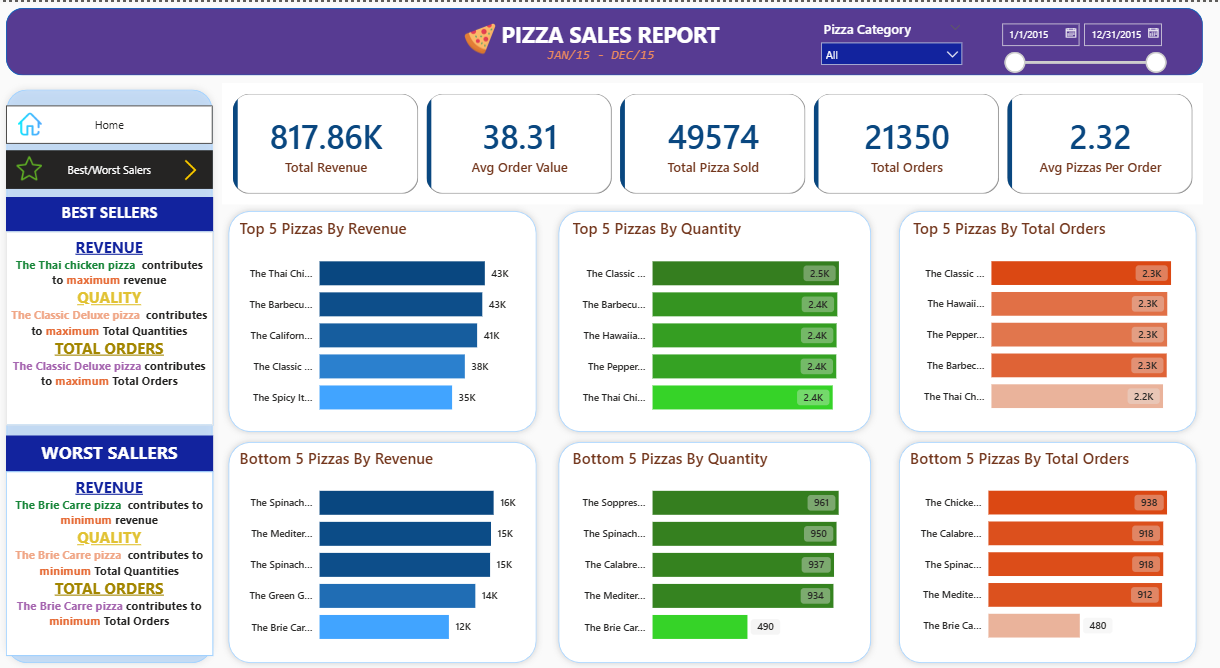

Layout of this report page (visuals, bound fields, positions):
{"tool":"powerbi","page":{"name":"Best/Worst Salers","canvas":[1500,820],"ordinal":1},"visuals":[{"type":"cardVisual","fields":{"Data":["pizza_sales.Total Revenue","pizza_sales.Avg Order Value","pizza_sales.Total Pizza Sold","pizza_sales.Total Orders","pizza_sales.Avg Pizzas Per Order"]},"box":[272.9,99.6,1206.1,149.4],"z":0},{"type":"shape","box":[7.4,7.4,1471.6,83],"z":1000},{"type":"textbox","box":[604.9,16.6,291.4,55.3],"z":2000},{"type":"textbox","box":[667.6,49.8,156.8,33.2],"z":3000},{"type":"image","box":[562.5,25.8,55.3,38.7],"z":4000},{"type":"shape","box":[272.9,249,394.6,287.7],"z":5000},{"type":"shape","box":[0,99.6,269.2,721.1],"z":6000},{"type":"textbox","box":[7.4,239.7,254.5,42.4],"z":7000},{"type":"textbox","box":[7.4,282.2,254.5,237.9],"z":8000},{"type":"textbox","box":[7.4,533,254.5,44.3],"z":9000},{"type":"textbox","box":[7.4,577.2,254.5,226.8],"z":10000},{"type":"slicer","fields":{"Values":["pizza_sales.pizza_category"]},"box":[999.5,16.6,193.6,64.5],"z":11000},{"type":"slicer","fields":{"Values":["pizza_sales.order_date"]},"box":[1219,16.6,223.1,83],"z":12000},{"type":"shape","box":[678.6,249,400.2,287.7],"z":13000},{"type":"shape","box":[1097.3,249,381.7,287.7],"z":14000},{"type":"shape","box":[272.9,533,394.6,287.7],"z":15000},{"type":"shape","box":[678.6,533,400.2,287.7],"z":16000},{"type":"shape","box":[1097.3,533,381.7,287.7],"z":17000},{"type":"barChart","title":"Top 5 Pizzas By Revenue","fields":{"Category":["pizza_sales.pizza_name"],"Y":["pizza_sales.Total Revenue"]},"box":[289.5,265.6,361.4,256.3],"z":18000},{"type":"barChart","title":"Bottom 5 Pizzas By Revenue","fields":{"Category":["pizza_sales.pizza_name"],"Y":["pizza_sales.Total Revenue"]},"box":[289.5,547.7,361.4,256.3],"z":19000},{"type":"barChart","title":"Top 5 Pizzas By Quantity","fields":{"Category":["pizza_sales.pizza_name"],"Y":["pizza_sales.Total Pizza Sold"]},"box":[698.9,265.6,361.4,256.3],"z":20000},{"type":"barChart","title":"Bottom 5 Pizzas By Quantity","fields":{"Category":["pizza_sales.pizza_name"],"Y":["pizza_sales.Total Pizza Sold"]},"box":[698.9,547.7,361.4,256.3],"z":21000},{"type":"barChart","title":"Top 5 Pizzas By Total Orders","fields":{"Category":["pizza_sales.pizza_name"],"Y":["pizza_sales.Total Orders"]},"box":[1117.5,265.6,352.2,254.5],"z":22000},{"type":"barChart","title":"Bottom 5 Pizzas By Total Orders","fields":{"Category":["pizza_sales.pizza_name"],"Y":["pizza_sales.Total Orders"]},"box":[1113.8,547.7,352.2,254.5],"z":23000},{"type":"pageNavigator","box":[7.4,127.2,254.5,47.9],"z":23001},{"type":"pageNavigator","box":[7.4,182.6,254.5,47.9],"z":23002},{"type":"image","box":[221.3,182.6,25.8,47.9],"z":23004},{"type":"image","box":[22.1,132.8,29.5,35],"z":23005},{"type":"image","box":[20.3,178.9,31.4,51.6],"z":23007}]}

Visuals, with their boxes in screenshot pixels (x1, y1, x2, y2), scaled from the page's 1500x820 canvas onto the 1220x668 screenshot:
cardVisual - pizza_sales.Total Revenue x pizza_sales.Avg Order Value: [x1=222, y1=81, x2=1203, y2=203]
shape: [x1=6, y1=6, x2=1203, y2=74]
textbox: [x1=492, y1=14, x2=729, y2=59]
textbox: [x1=543, y1=41, x2=671, y2=68]
image: [x1=458, y1=21, x2=502, y2=53]
shape: [x1=222, y1=203, x2=543, y2=437]
shape: [x1=0, y1=81, x2=219, y2=667]
textbox: [x1=6, y1=195, x2=213, y2=230]
textbox: [x1=6, y1=230, x2=213, y2=424]
textbox: [x1=6, y1=434, x2=213, y2=470]
textbox: [x1=6, y1=470, x2=213, y2=655]
slicer - pizza_sales.pizza_category: [x1=813, y1=14, x2=970, y2=66]
slicer - pizza_sales.order_date: [x1=991, y1=14, x2=1173, y2=81]
shape: [x1=552, y1=203, x2=877, y2=437]
shape: [x1=892, y1=203, x2=1203, y2=437]
shape: [x1=222, y1=434, x2=543, y2=667]
shape: [x1=552, y1=434, x2=877, y2=667]
shape: [x1=892, y1=434, x2=1203, y2=667]
"Top 5 Pizzas By Revenue" barChart: [x1=235, y1=216, x2=529, y2=425]
"Bottom 5 Pizzas By Revenue" barChart: [x1=235, y1=446, x2=529, y2=655]
"Top 5 Pizzas By Quantity" barChart: [x1=568, y1=216, x2=862, y2=425]
"Bottom 5 Pizzas By Quantity" barChart: [x1=568, y1=446, x2=862, y2=655]
"Top 5 Pizzas By Total Orders" barChart: [x1=909, y1=216, x2=1195, y2=424]
"Bottom 5 Pizzas By Total Orders" barChart: [x1=906, y1=446, x2=1192, y2=653]
pageNavigator: [x1=6, y1=104, x2=213, y2=143]
pageNavigator: [x1=6, y1=149, x2=213, y2=188]
image: [x1=180, y1=149, x2=201, y2=188]
image: [x1=18, y1=108, x2=42, y2=137]
image: [x1=17, y1=146, x2=42, y2=188]
